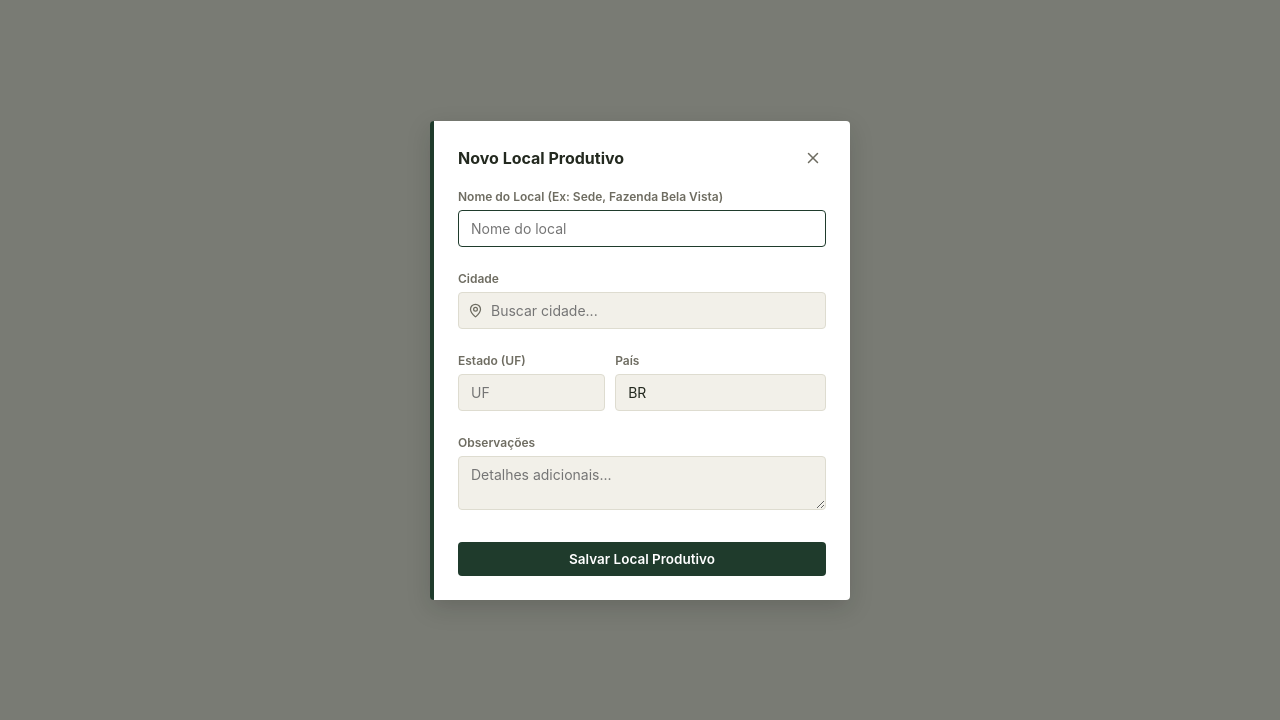
it: SiteFormModal › 3 e 4. Cidade e Estado são obrigatórios
Type "Fábrica 1" into the field with placeholder "Nome do local" at (642, 228), box 458,210 -> 826,246
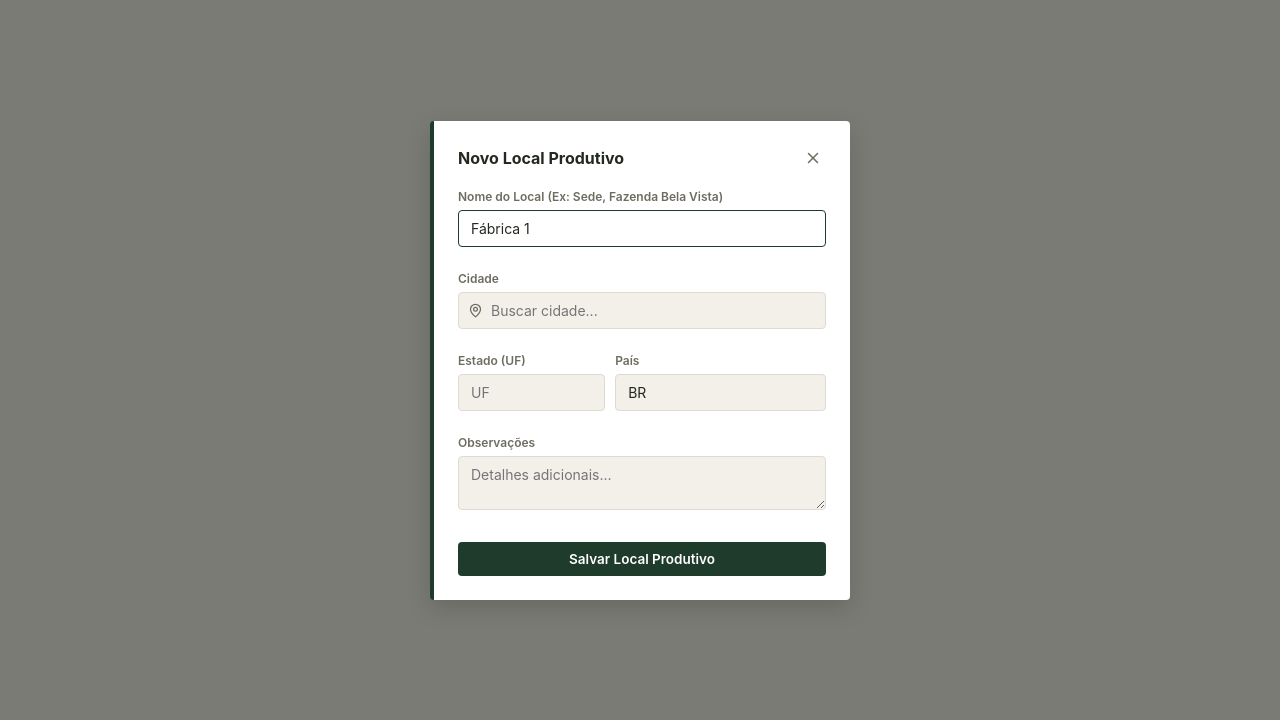
Submit the form, box 458,188 -> 826,576
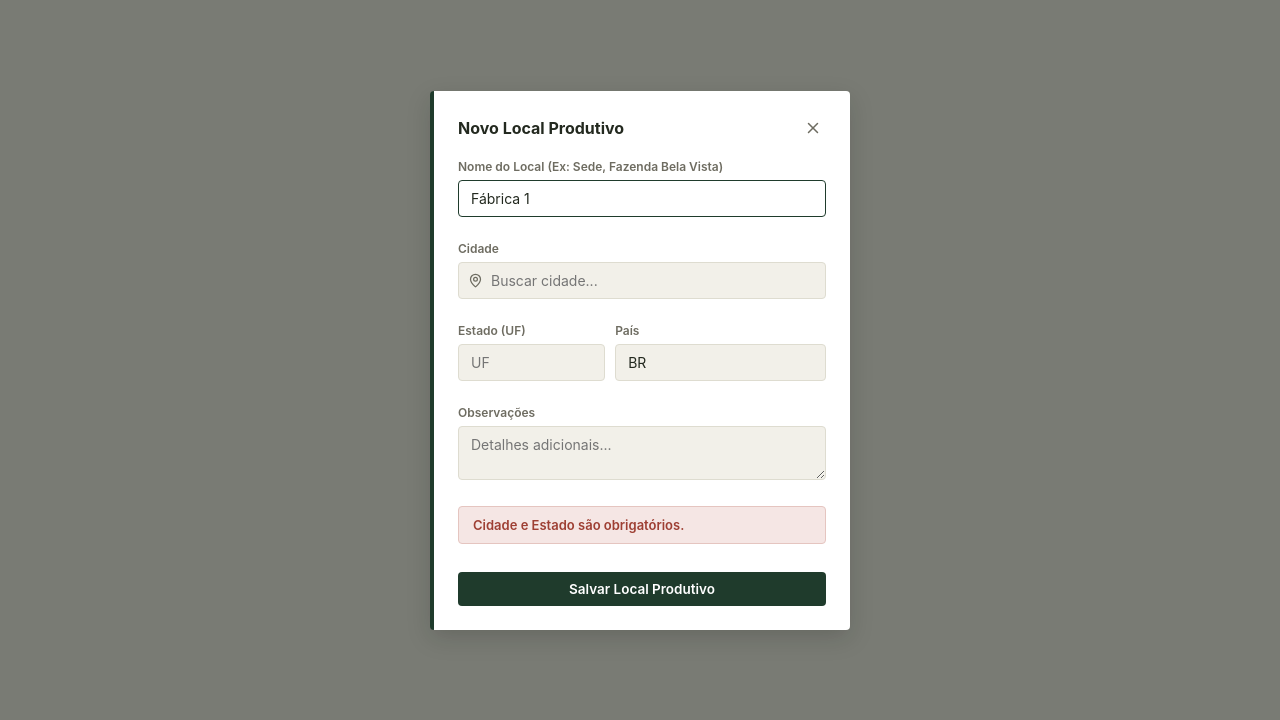
Expected: the text "Cidade e Estado são obrigatórios." is shown, 458,506 -> 826,544
